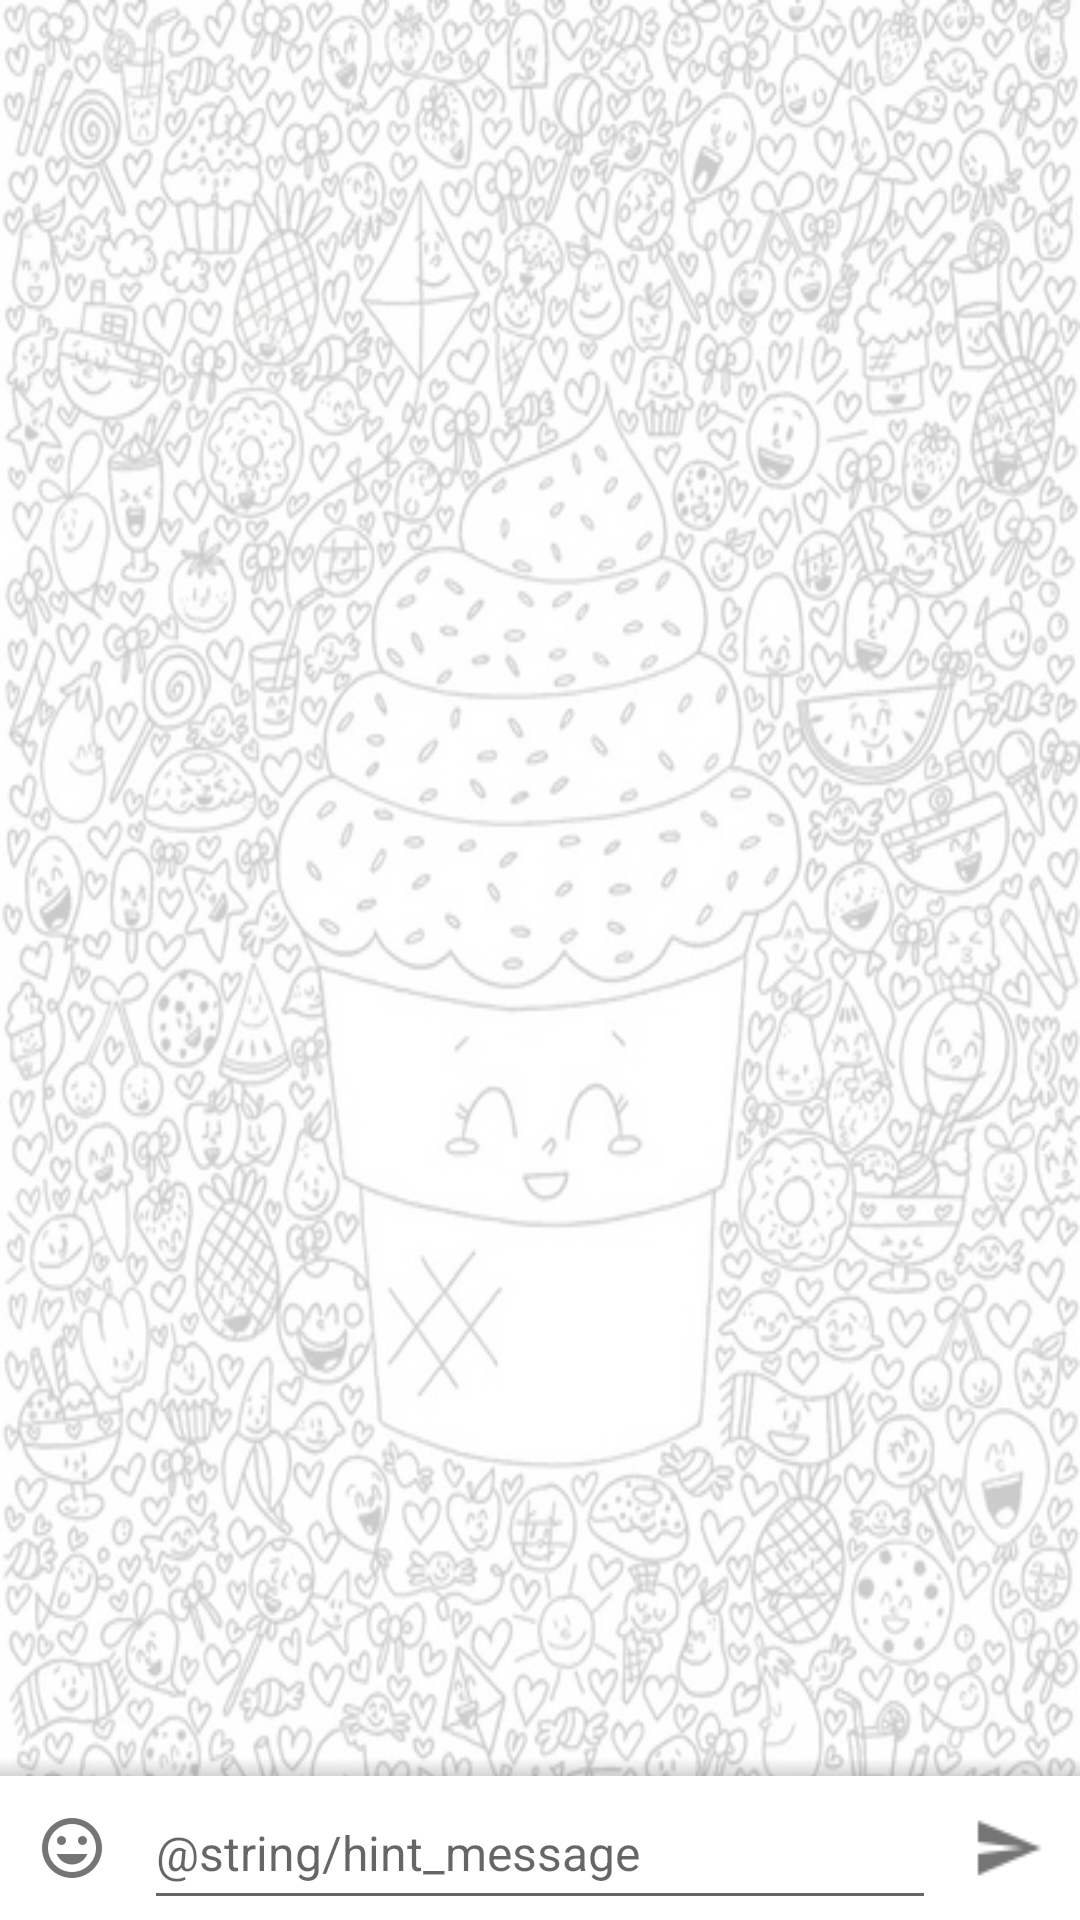

Locate icon controls on the screen. Image size 1080w x 1920h, boxes as bbox=(x1, y1, x2, y2).
send: bbox=(977, 1820, 1040, 1876)
tag faces: bbox=(42, 1818, 102, 1878)
